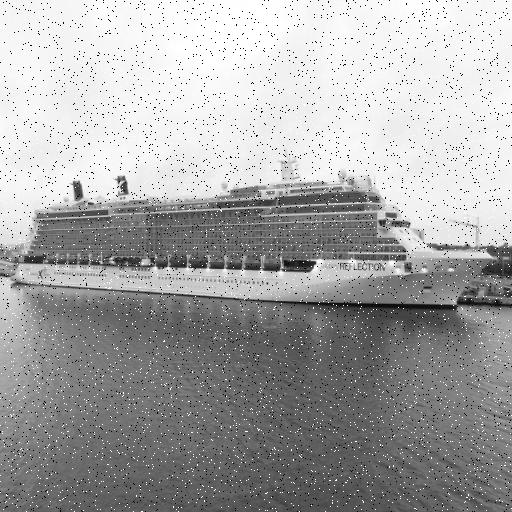cruises: (10, 153, 496, 316)
